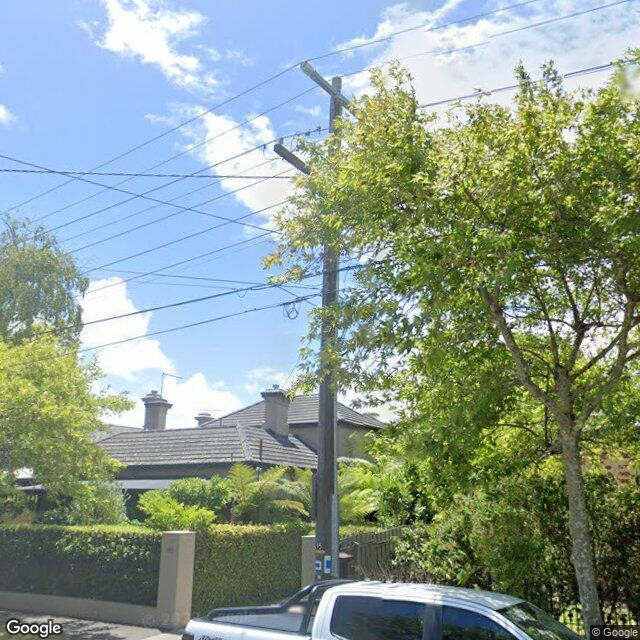HV-transmission: (302, 60, 368, 120)
crossarm: (310, 69, 365, 120), (261, 136, 310, 175)
timber-pole: (314, 75, 343, 581)
